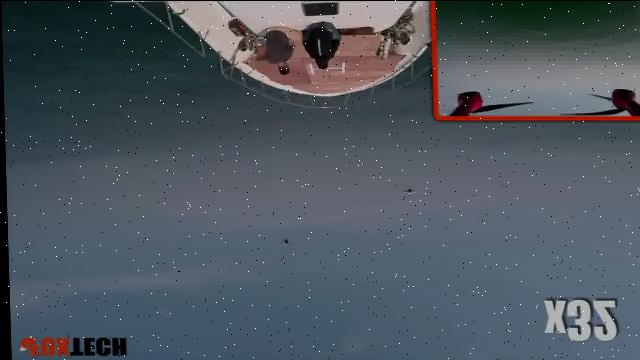drone: (274, 231, 295, 249), (397, 184, 416, 200)
